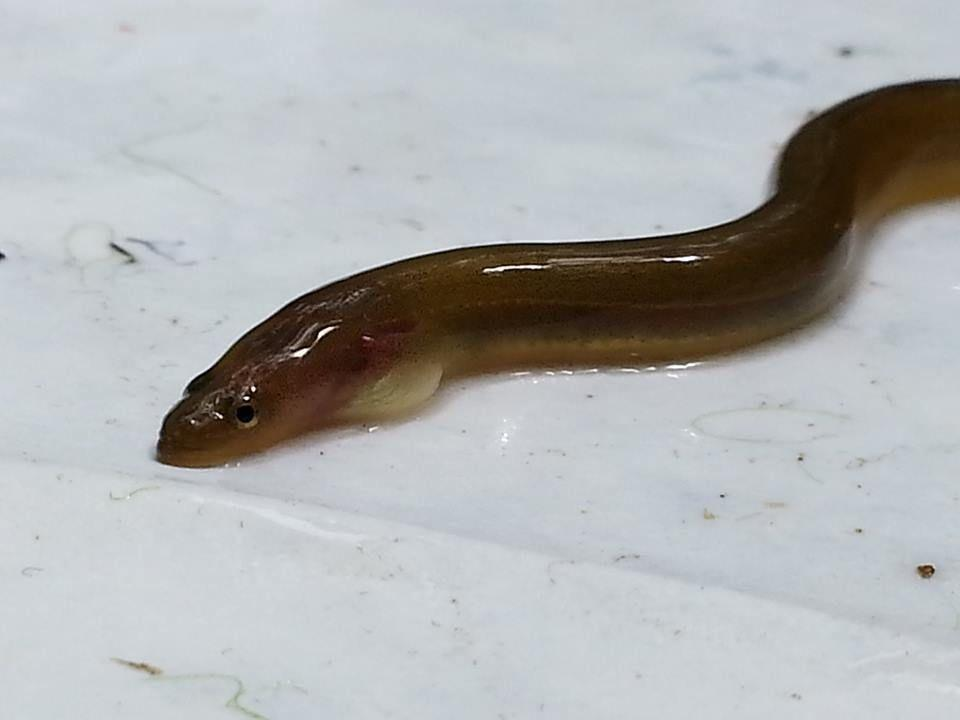Freshwater Eel: (149, 70, 956, 482)
